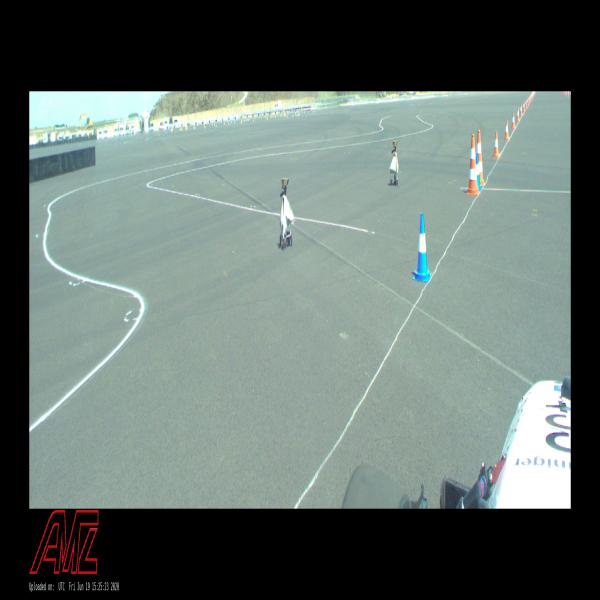blue_cone: (412, 212, 432, 282), (476, 154, 482, 190)
large_orange_cone: (466, 134, 480, 194), (477, 130, 485, 186)
orange_cone: (493, 132, 499, 156), (505, 120, 509, 139), (516, 108, 520, 120), (512, 113, 515, 128)
